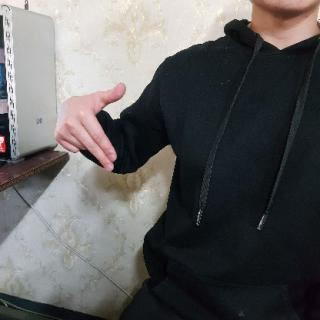GHAYN: (52, 82, 140, 176)
